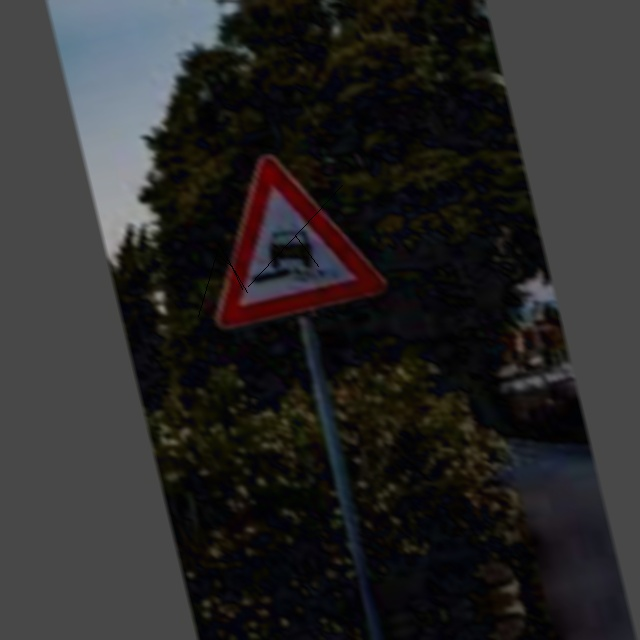Loose_Gravel: (194, 140, 382, 328)
